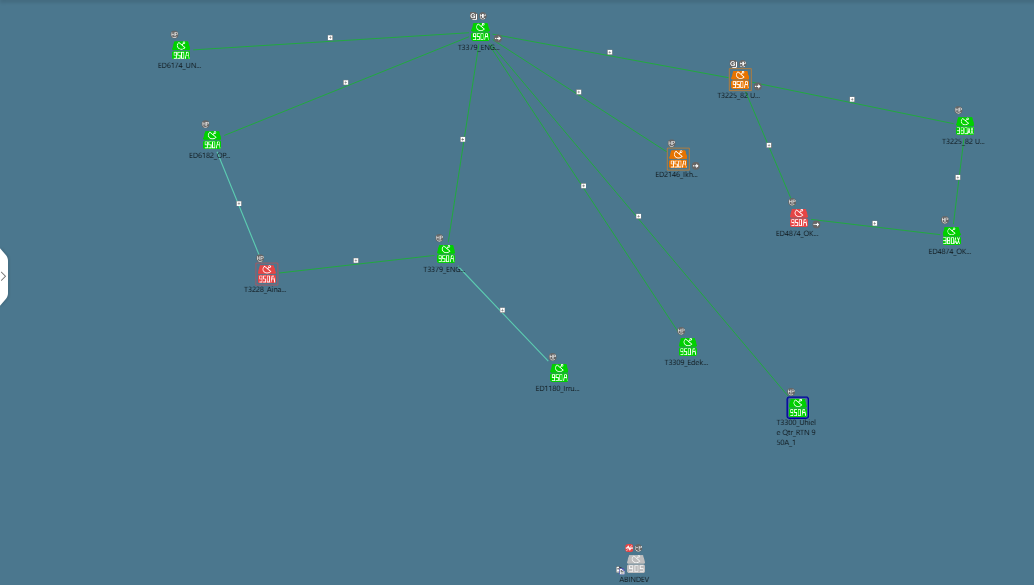Link_Blue: (456, 263, 551, 365), (216, 154, 257, 252)
Link_Green: (488, 44, 677, 330), (538, 178, 785, 393), (223, 37, 456, 139), (517, 55, 662, 149), (494, 31, 732, 81), (771, 82, 958, 123), (191, 31, 441, 55), (746, 102, 797, 210), (449, 44, 477, 212), (830, 218, 937, 233), (281, 257, 391, 271), (953, 141, 961, 197)
RTN_Gray: (624, 554, 648, 578)
RTN_Green: (940, 225, 965, 249), (953, 115, 977, 139), (785, 399, 809, 423), (675, 341, 700, 359), (436, 244, 454, 268), (171, 44, 195, 61), (469, 24, 493, 40), (204, 128, 220, 152), (553, 367, 570, 385)
RTN_Orange: (669, 147, 693, 171), (727, 70, 750, 94)
RTN_Red: (255, 263, 280, 288), (792, 212, 809, 229)
